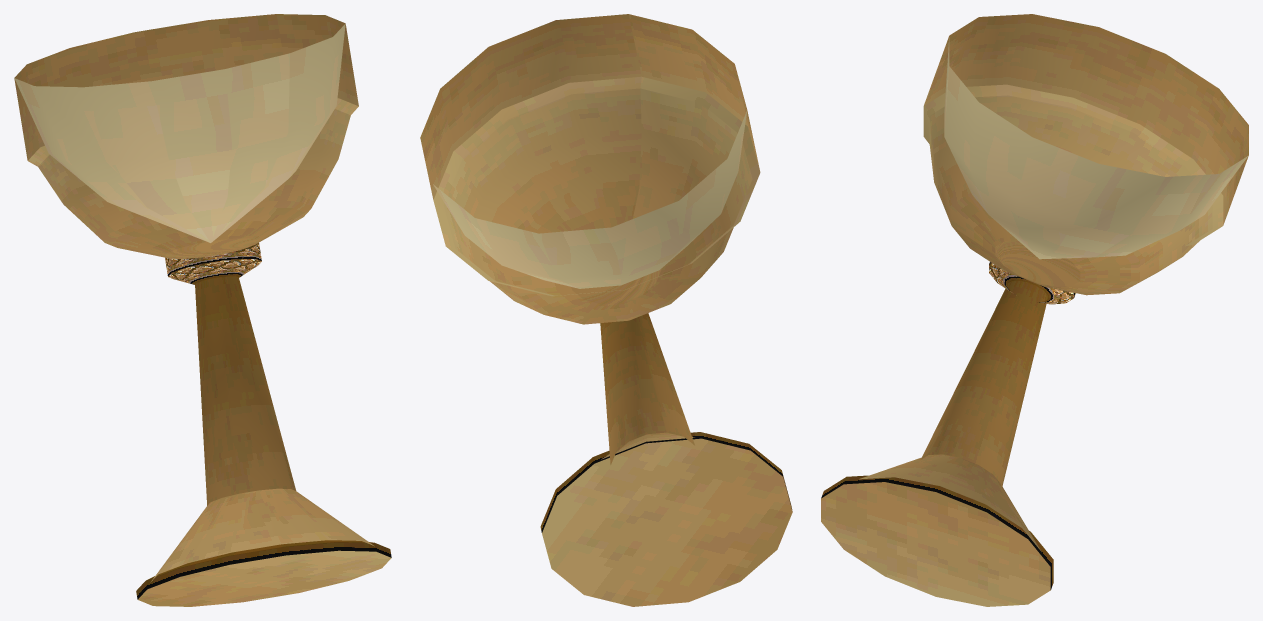
Rendered from ps2_save-icons_thedavincicode.glb.
The picture shows the model from 3 angles, left to right: view 1: azimuth 30°, elevation 25°; view 2: azimuth 150°, elevation 25°; view 3: azimuth 270°, elevation 25°; orthographic projection. The views are drawn at different scales.
Parts seen in each view (by area): view 1: icon.ico; view 2: icon.ico; view 3: icon.ico.
Part boxes in pixels (x1,y1,x2,y2): icon.ico: [14, 14, 391, 606]; icon.ico: [420, 14, 792, 606]; icon.ico: [821, 14, 1248, 606].
Size of the model in its own units: 2.29 by 4.12 by 3.03.
1 material, 1 textured.
